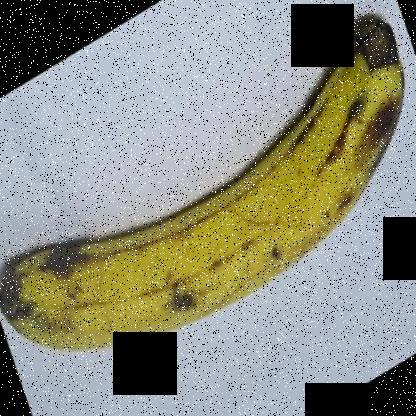ripe: (1, 1, 412, 370)
